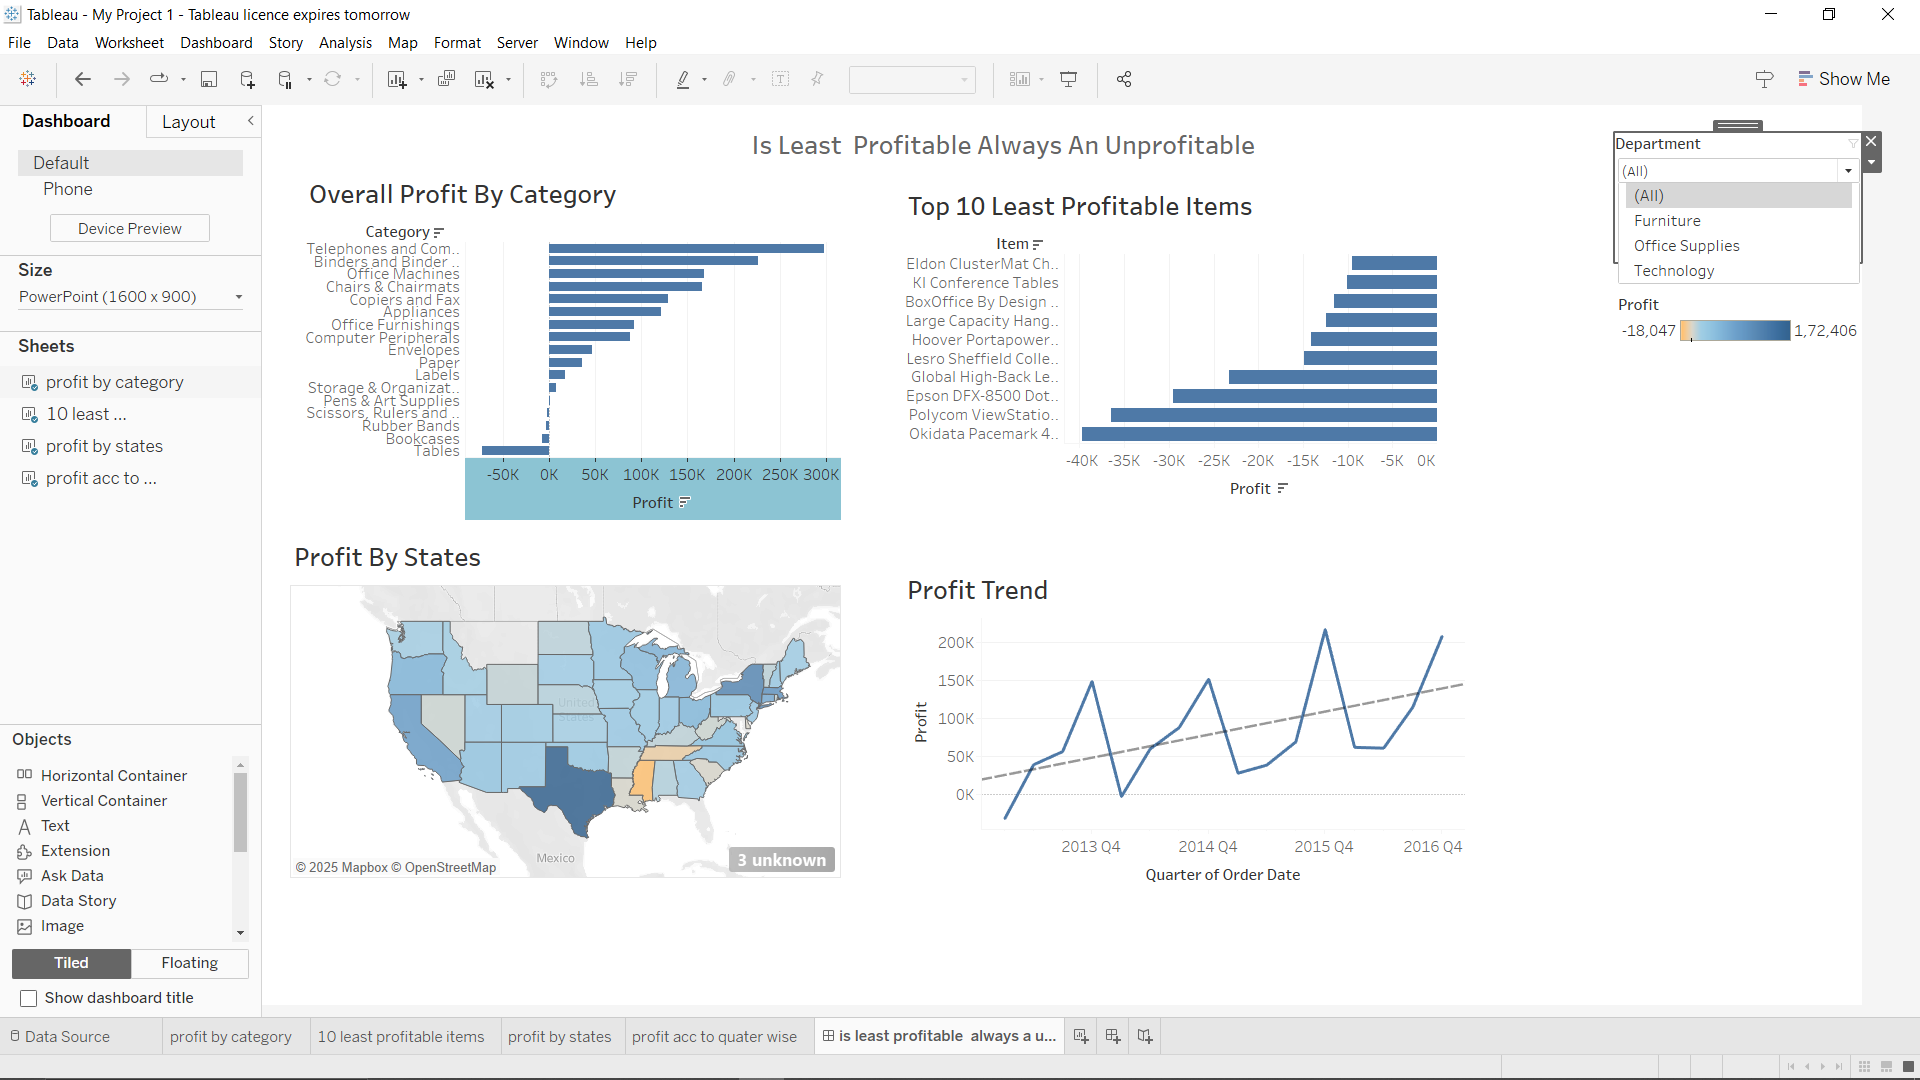

This screenshot's page, from the dashboard's own definition file:
{"tool":"tableau","page":{"name":"is least profitable  always a unprofitable","canvas":[1600,900],"ordinal":0},"visuals":[{"type":"text","box":[486,22,511,35]},{"type":"filter","title":"profit by category ","param":"[federated.1y075121wucgkm17raal517fnrcw].[none:Department:nk]","box":[1353,28,248,129]},{"type":"worksheet","title":"profit by category ","mark":"Automatic","rows":["Category"],"cols":["Profit"],"box":[43,67,536,331]},{"type":"worksheet","title":"10 least profitable items","mark":"Automatic","rows":["Item"],"cols":["Profit"],"box":[642,79,533,322]},{"type":"legend","title":"profit by states","param":"[federated.1y075121wucgkm17raal517fnrcw].[sum:Profit:qk]","box":[1356,189,244,88]},{"type":"worksheet","title":"profit by states","mark":"Automatic","box":[28,404,551,343]},{"type":"worksheet","title":"profit acc to quater wise","mark":"Automatic","rows":["Profit"],"cols":["Order Date"],"box":[629,424,562,324]}]}

Visuals, with their boxes on the page's 1600x900 design canvas (x1, y1, x2, y2). These are canvas units, not pixel positions in the 1920x1080 screenshot, which may show the page scaled, cropped or inside an application window:
text: locate(486, 22, 997, 57)
"profit by category " filter: locate(1353, 28, 1601, 157)
"profit by category " worksheet: locate(43, 67, 579, 398)
"10 least profitable items" worksheet: locate(642, 79, 1175, 401)
"profit by states" legend: locate(1356, 189, 1600, 277)
"profit by states" worksheet: locate(28, 404, 579, 747)
"profit acc to quater wise" worksheet: locate(629, 424, 1191, 748)
